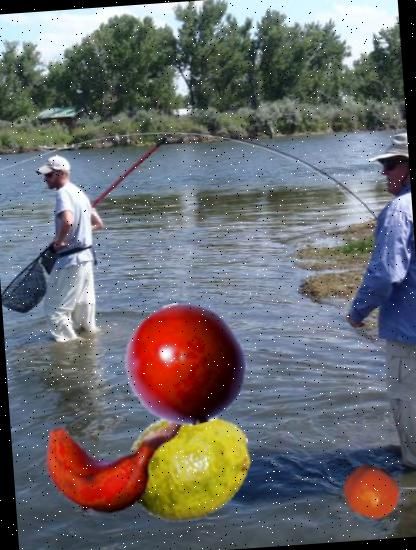Banana: (40, 388, 184, 532)
Clementine: (340, 460, 402, 522)
Guava: (125, 398, 256, 530)
Tamarillo: (120, 298, 251, 429)
